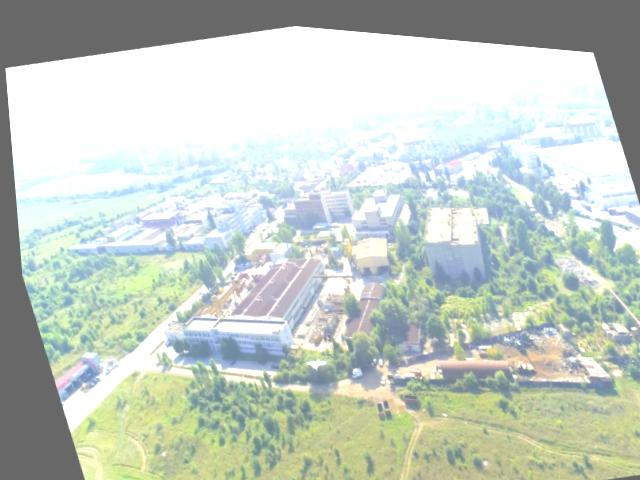plane: (295, 349, 322, 371)
